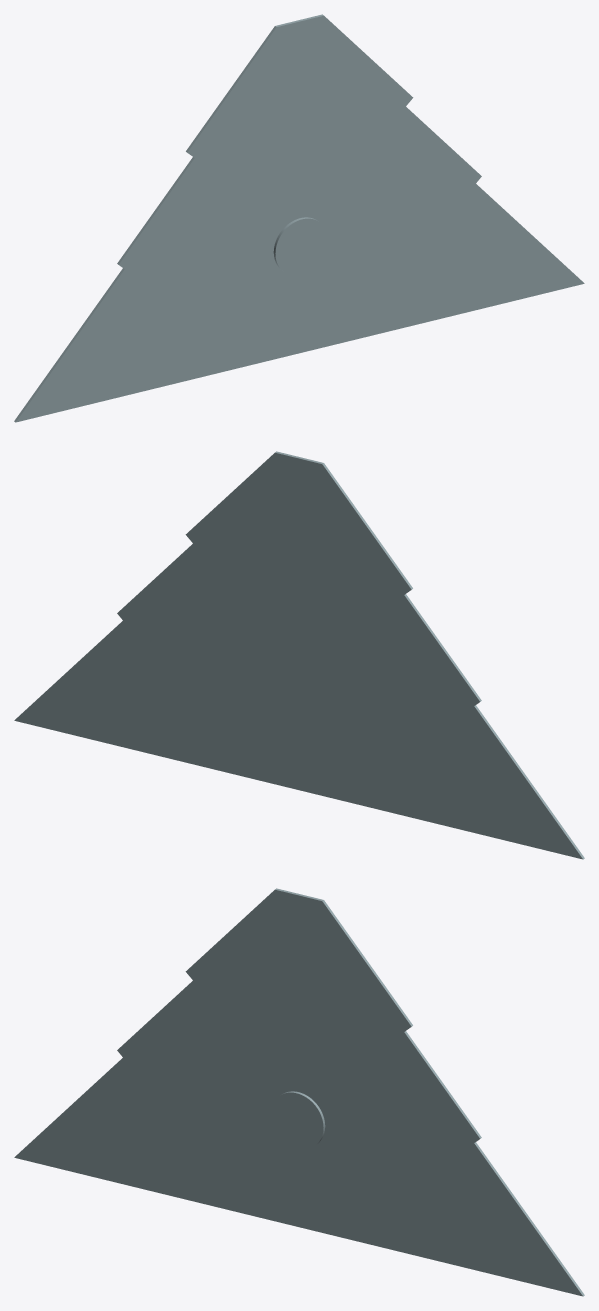
Rendered from 1.Main Vertiport Triangle.fbx.
3 views of the same model, one above another, from view 1: azimuth 30°, elevation 25°; view 2: azimuth 150°, elevation 25°; view 3: azimuth 330°, elevation 25° (orthographic).
Parts seen in each view (by area): view 1: Body3, Body1; view 2: Body3; view 3: Body3, Body1.
Boxes of the visible parts, box(x1,y1,x2,y2) form: Body3: box(14, 14, 584, 422); Body1: box(273, 217, 328, 275); Body3: box(14, 451, 584, 859); Body3: box(14, 888, 584, 1296); Body1: box(270, 1091, 325, 1149).
Size of the model in its own units: 193 by 107 by 2.
